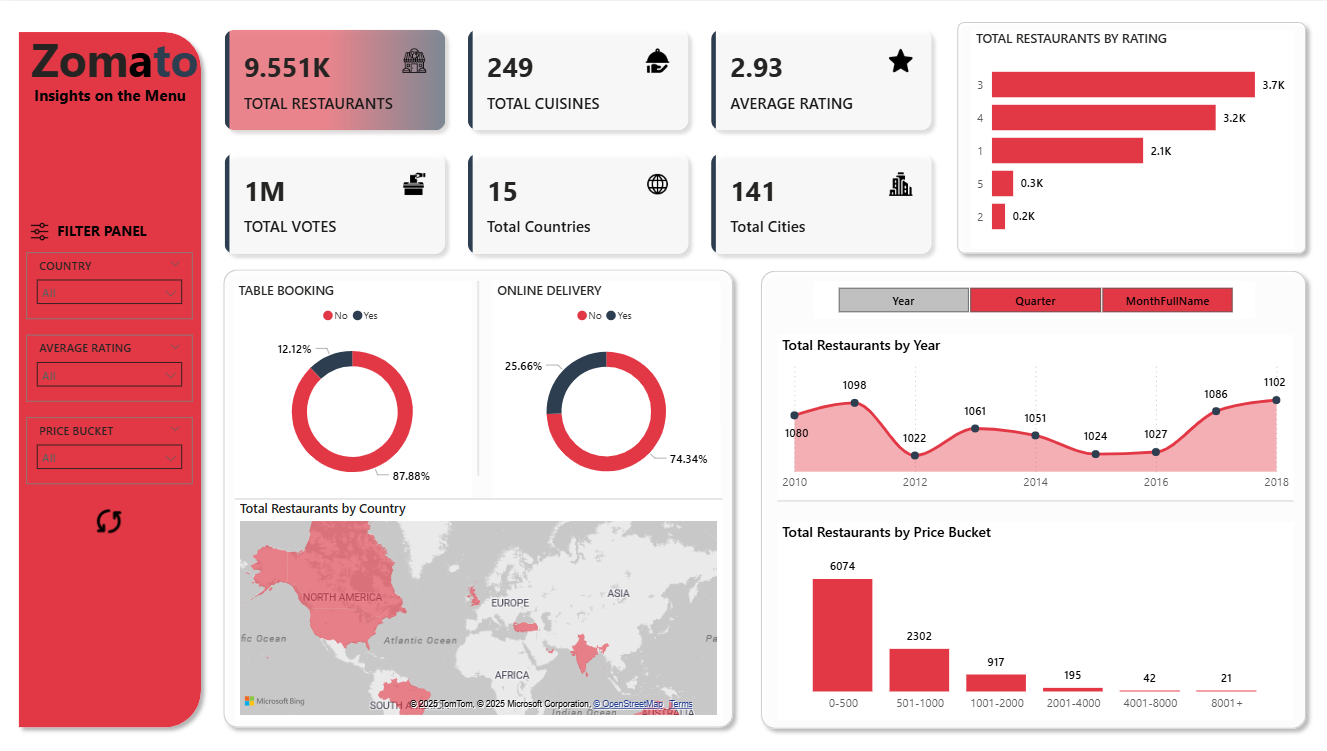

Layout of this report page (visuals, bound fields, positions):
{"tool":"powerbi","page":{"name":"Dashboard","canvas":[1400,800],"ordinal":0},"visuals":[{"type":"cardVisual","fields":{"Data":["CountNonNull(Main.RestaurantID)","Main.Total Cuisines","Avg(Main.Average_Rating)","Sum(Main.Votes)","CountNonNull(Country.CountryID)","Main.Total Cities"]},"box":[220,12.9,778.6,270],"z":0},{"type":"shape","box":[10,24.3,210,750],"z":0,"group":"g5"},{"type":"textbox","box":[27.1,24.3,198.6,75.7],"z":1000,"group":"g5"},{"type":"group","id":"g1","title":"Group 2","box":[225.7,274.3,554.3,500],"z":1000},{"type":"shape","box":[998.3,13.3,385,261.7],"z":2000,"group":"g3"},{"type":"textbox","box":[30,82.9,171.4,35.7],"z":2000,"group":"g5"},{"type":"group","id":"g2","title":"Group 3","box":[791.7,275,591.7,500],"z":2000},{"type":"group","id":"g3","title":"Group 4","box":[998.3,13.3,385,261.7],"z":3000},{"type":"clusteredBarChart","title":"TOTAL RESTAURANTS BY RATING","fields":{"Y":["CountNonNull(Main.RestaurantID)"],"Category":["Main.Average_Rating"]},"box":[1021.6,30,340,230],"z":3000,"group":"g3"},{"type":"slicer","fields":{"Values":["Country.Countryname"]},"box":[26.7,265,175,70],"z":3000,"group":"g5"},{"type":"group","id":"g4","title":"Group 5","box":[10,24.3,215.7,750],"z":4000},{"type":"shape","box":[225.7,274.3,554.3,500],"z":4000,"group":"g1"},{"type":"shape","box":[791.7,275,591.7,500],"z":4000,"group":"g2"},{"type":"slicer","fields":{"Values":["Main.Average_Rating"]},"box":[26.7,351.7,175,70],"z":4000,"group":"g5"},{"type":"donutChart","title":"TABLE BOOKING","fields":{"Category":["Main.Has_Table_booking"],"Y":["CountNonNull(Main.RestaurantID)"]},"box":[245,295,250,230],"z":5000,"group":"g1"},{"type":"lineChart","fields":{"Category":["CalendarTable.Year"],"Y":["CountNonNull(Main.RestaurantID)"]},"box":[818.4,351.7,543.3,173.3],"z":5000,"group":"g2"},{"type":"slicer","fields":{"Values":["Main.Price Bucket"]},"box":[26.7,438.3,175,70],"z":5000,"group":"g5"},{"type":"textbox","box":[55,226.7,126.7,33.3],"z":6000,"group":"g5"},{"type":"donutChart","title":"ONLINE DELIVERY","fields":{"Category":["Main.Has_Online_delivery"],"Y":["CountNonNull(Main.RestaurantID)"]},"box":[518.3,295,240,230],"z":6000,"group":"g1"},{"type":"slicer","fields":{"Values":["Time Period Parameter.Time Period Parameter"]},"box":[856.7,295,465,40],"z":6000,"group":"g2"},{"type":"image","box":[26.7,226.7,28.3,33.3],"z":7000,"group":"g5"},{"type":"filledMap","title":"Total Restaurants by Country","fields":{"Category":["Country.Countryname"]},"box":[246.7,525,511.7,231.7],"z":7000,"group":"g1"},{"type":"clusteredColumnChart","title":"Total Restaurants by Price Bucket","fields":{"Category":["Main.Price Bucket"],"Y":["CountNonNull(Main.RestaurantID)"]},"box":[818.4,548.3,543.3,208.3],"z":7000,"group":"g2"},{"type":"group","id":"g5","title":"Group 1","box":[10,24.3,215.7,750],"z":8000,"group":"g4"},{"type":"shape","box":[246.7,500,513.3,48.3],"z":8000,"group":"g1"},{"type":"shape","box":[483.3,295,38.3,205],"z":9000,"group":"g1"},{"type":"shape","box":[818.4,508.3,543.3,36.7],"z":9001,"group":"g2"},{"type":"actionButton","box":[64.3,528.6,100,40],"z":9004,"group":"g4"}]}

Visuals, with their boxes in screenshot pixels (x1, y1, x2, y2), scaled from the page's 1400x800 canvas onto the 1327x751 screenshot:
cardVisual - CountNonNull(Main.RestaurantID) x Main.Total Cuisines: 209/12/947/266
shape: 9/23/209/727
textbox: 26/23/214/94
"Group 2" group: 214/257/739/727
shape: 946/12/1311/258
textbox: 28/78/191/111
"Group 3" group: 750/258/1311/728
"Group 4" group: 946/12/1311/258
"TOTAL RESTAURANTS BY RATING" clusteredBarChart: 968/28/1291/244
slicer - Country.Countryname: 25/249/191/314
"Group 5" group: 9/23/214/727
shape: 214/257/739/727
shape: 750/258/1311/728
slicer - Main.Average_Rating: 25/330/191/396
"TABLE BOOKING" donutChart: 232/277/469/493
lineChart - CalendarTable.Year x CountNonNull(Main.RestaurantID): 776/330/1291/493
slicer - Main.Price Bucket: 25/411/191/477
textbox: 52/213/172/244
"ONLINE DELIVERY" donutChart: 491/277/719/493
slicer - Time Period Parameter.Time Period Parameter: 812/277/1253/314
image: 25/213/52/244
"Total Restaurants by Country" filledMap: 234/493/719/710
"Total Restaurants by Price Bucket" clusteredColumnChart: 776/515/1291/710
"Group 1" group: 9/23/214/727
shape: 234/469/720/515
shape: 458/277/494/469
shape: 776/477/1291/512
actionButton: 61/496/156/534
